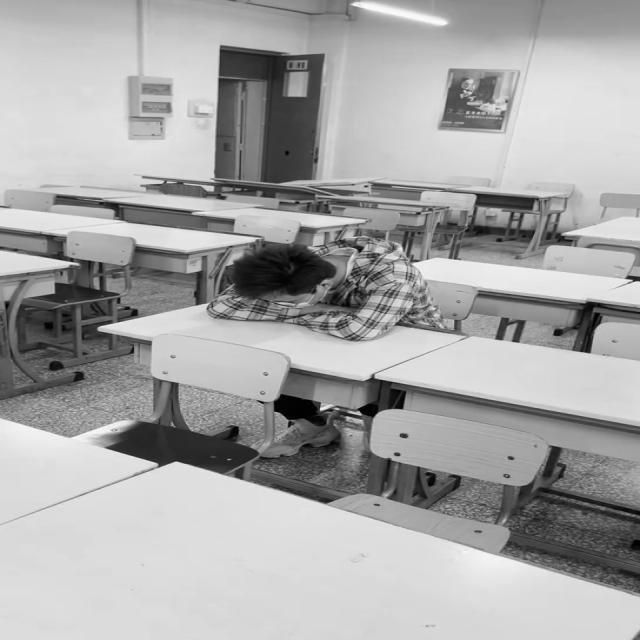sleep: (211, 248, 421, 339)
